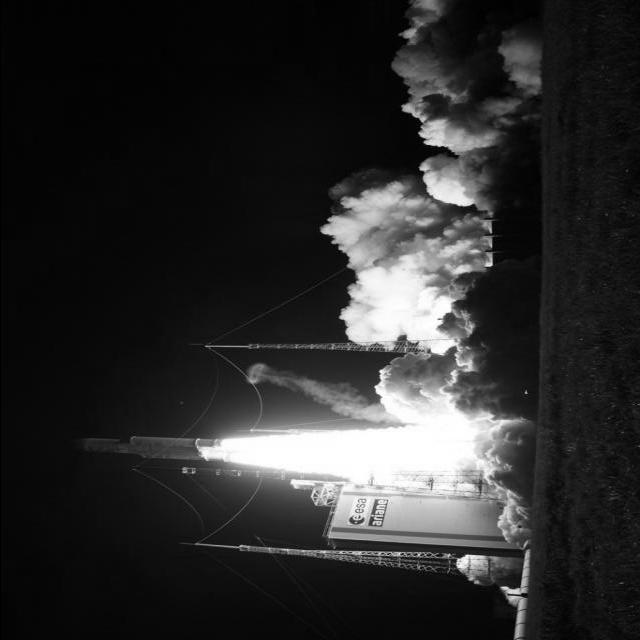missile: (68, 436, 227, 464)
